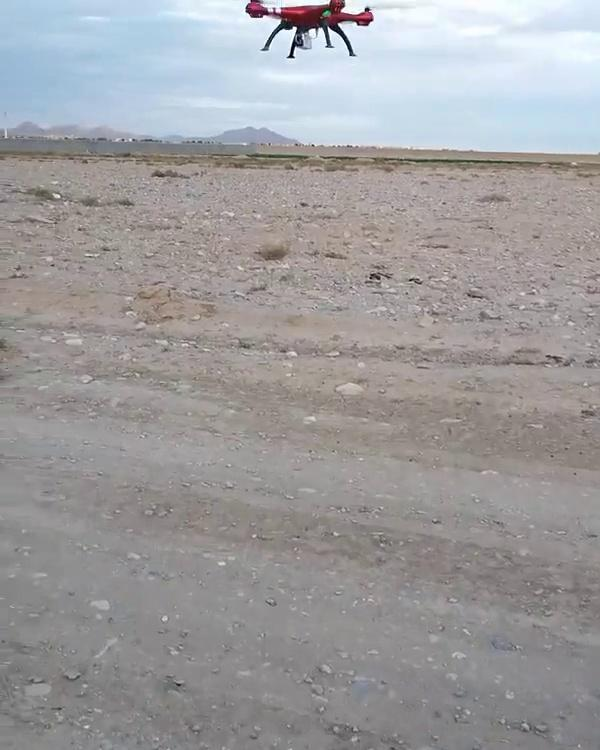drone: (240, 0, 376, 60)
